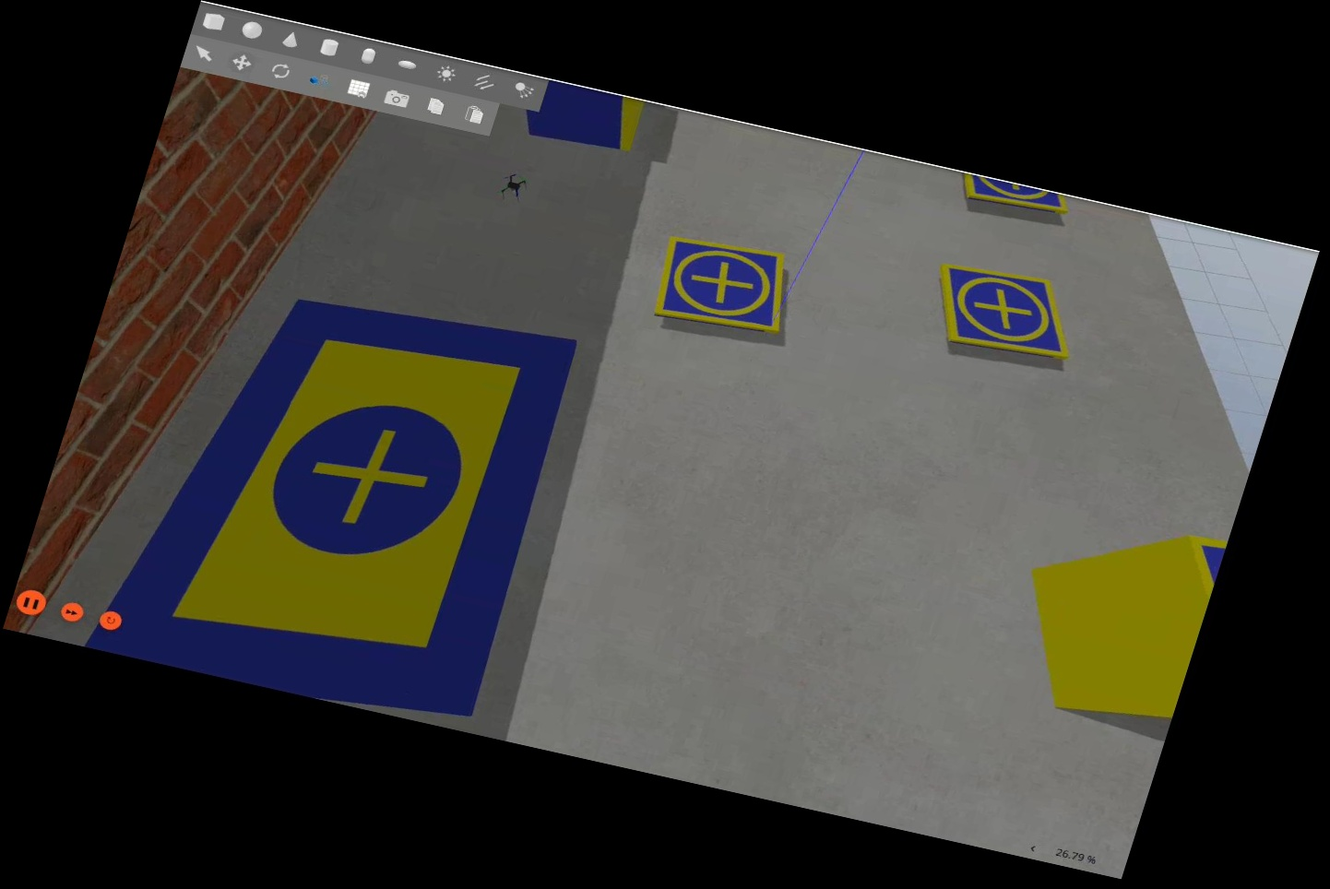large_base: (84, 256, 591, 731)
small_base: (916, 256, 1093, 370), (646, 229, 802, 343), (955, 171, 1073, 220)
